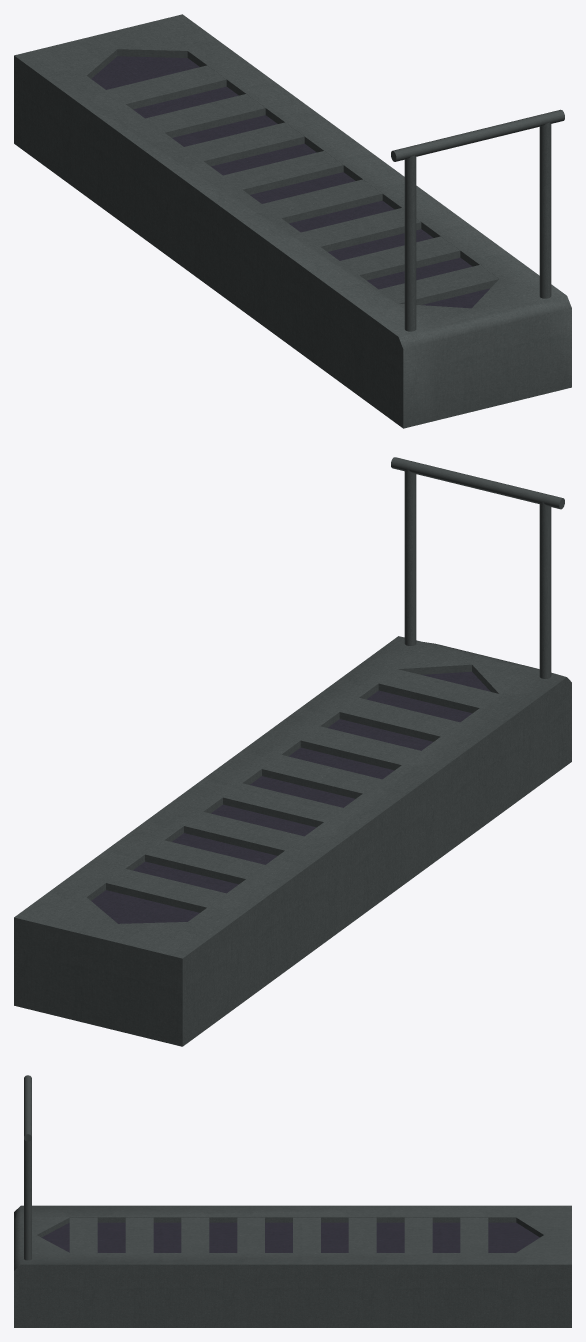
File: Platform_Standard_Final.FBX
The picture shows the model from 3 angles, top to bottom: view 1: azimuth 30°, elevation 25°; view 2: azimuth 150°, elevation 25°; view 3: azimuth 270°, elevation 25°; orthographic projection. The views are drawn at different scales.
Parts seen in each view (by area): view 1: Main_Platform, RainlingSupport001, RainlingSupport, RainlingSupport002; view 2: Main_Platform, RainlingSupport, RainlingSupport001, RainlingSupport002; view 3: Main_Platform, RainlingSupport, RainlingSupport002.
Boxes of the visible parts, x1=… form: Main_Platform: x1=14, y1=14, x2=571, y2=428; RainlingSupport001: x1=404, y1=154, x2=416, y2=331; RainlingSupport: x1=539, y1=122, x2=551, y2=298; RainlingSupport002: x1=391, y1=109, x2=564, y2=161; Main_Platform: x1=14, y1=636, x2=571, y2=1046; RainlingSupport: x1=404, y1=469, x2=416, y2=645; RainlingSupport001: x1=539, y1=502, x2=551, y2=678; RainlingSupport002: x1=391, y1=457, x2=564, y2=509; Main_Platform: x1=14, y1=1205, x2=571, y2=1327; RainlingSupport: x1=24, y1=1139, x2=31, y2=1260; RainlingSupport002: x1=24, y1=1075, x2=31, y2=1141.
Bounding box in the file's own units: 39.37 × 60.34 × 157.
2 materials, 2 textured.
